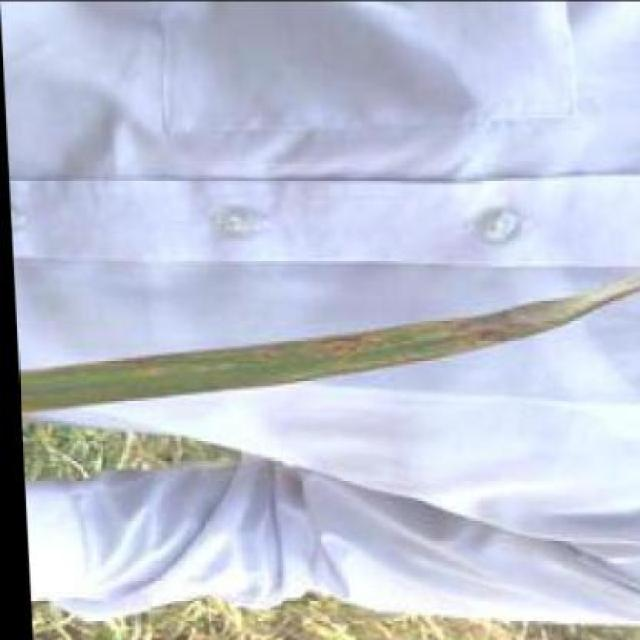Brown_Spot: (175, 283, 640, 386)
